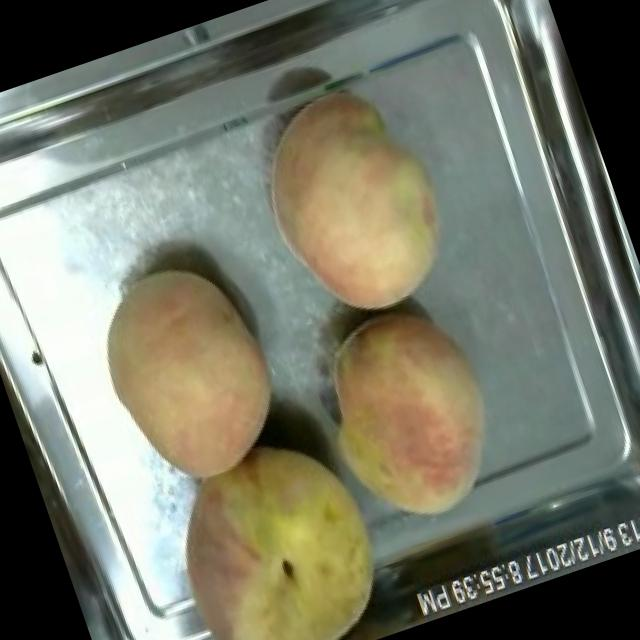Fruit: (231, 65, 474, 340), (137, 407, 416, 640), (286, 284, 526, 554), (69, 234, 307, 504)
